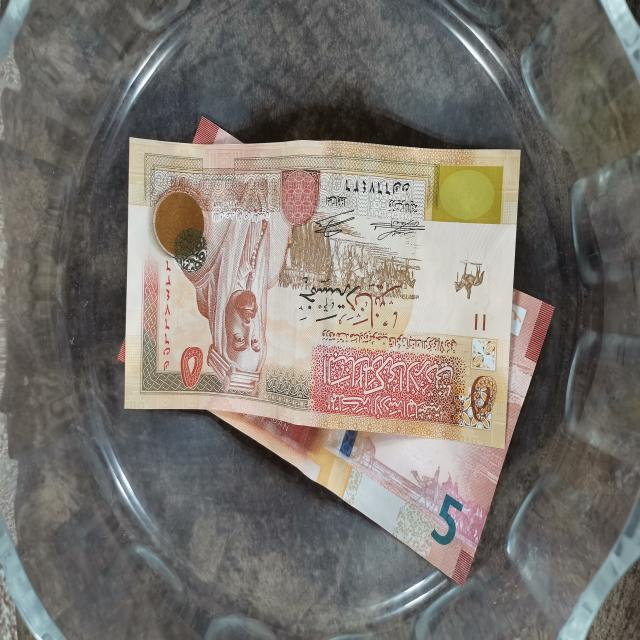5-dinar: (123, 147, 527, 451)
